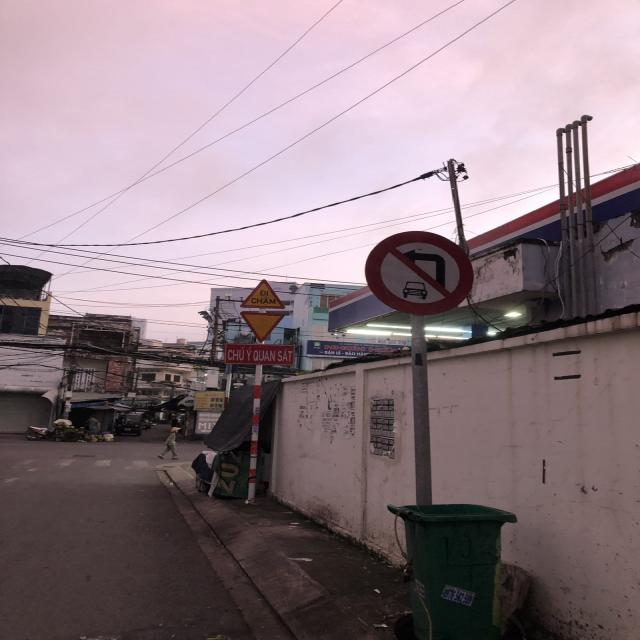Bien bao cam xe o to re trai: (361, 226, 478, 320)
Bien bao di cham: (240, 277, 288, 310)
Bien bao giao nhau voi duong uu tien: (236, 308, 290, 344)
